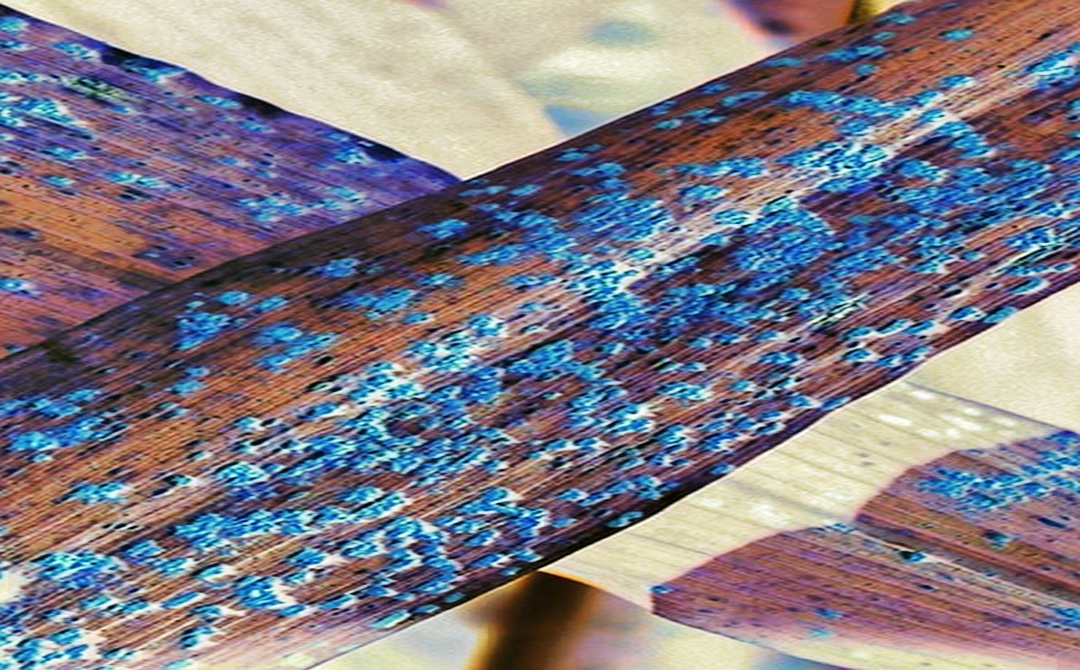Leaf Rust: (86, 21, 963, 642)
